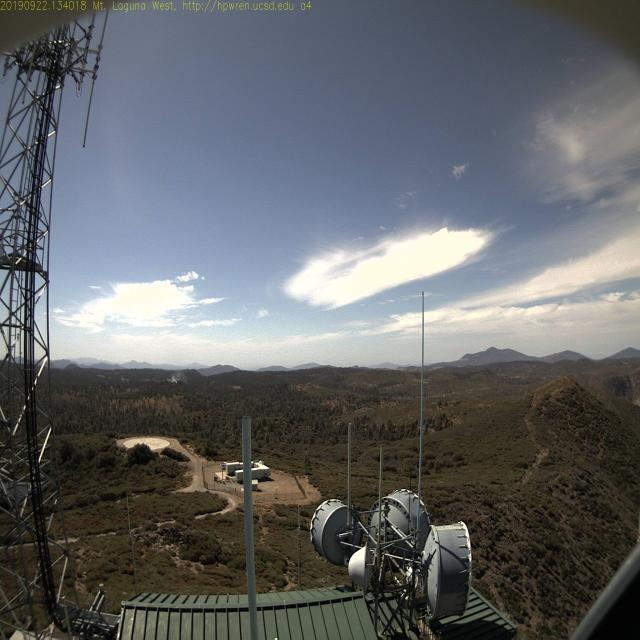smoke: (163, 366, 190, 385)
